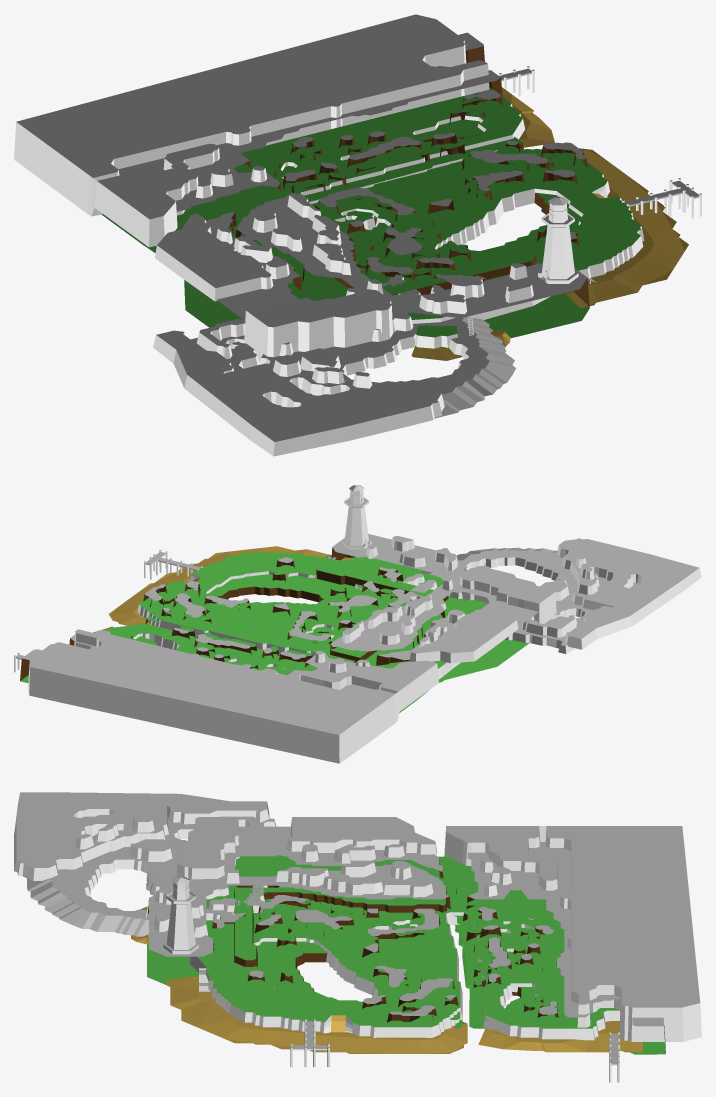
File: new_old_map.glb
3 renders of one model, top to bottom at view 1: azimuth 30°, elevation 25°; view 2: azimuth 150°, elevation 25°; view 3: azimuth 270°, elevation 25°, orthographic. The views are drawn at different scales.
Visible parts, largest first — view 1: expanded_main, main001, Plane, lighthouse, docks; view 2: expanded_main, main001, Plane, lighthouse, docks; view 3: expanded_main, main001, Plane, lighthouse, docks.
Part boxes in pixels (x1,y1,x2,y2): expanded_main: [14, 14, 688, 360]; main001: [153, 274, 515, 456]; Plane: [231, 93, 581, 295]; lighthouse: [538, 196, 578, 283]; docks: [499, 66, 701, 218]; expanded_main: [20, 534, 556, 763]; main001: [402, 538, 701, 653]; Plane: [118, 565, 448, 675]; lighthouse: [342, 485, 371, 549]; docks: [14, 550, 202, 672]; expanded_main: [131, 817, 701, 1054]; main001: [14, 792, 276, 936]; Plane: [234, 887, 564, 1028]; lighthouse: [163, 877, 198, 954]; docks: [290, 1019, 619, 1082].
Size of the model in its own units: 170 by 34.1 by 192.
